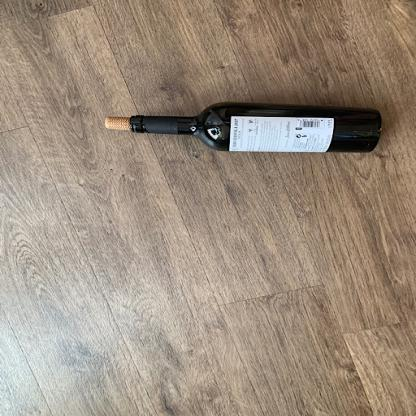trash: (126, 100, 382, 155)
